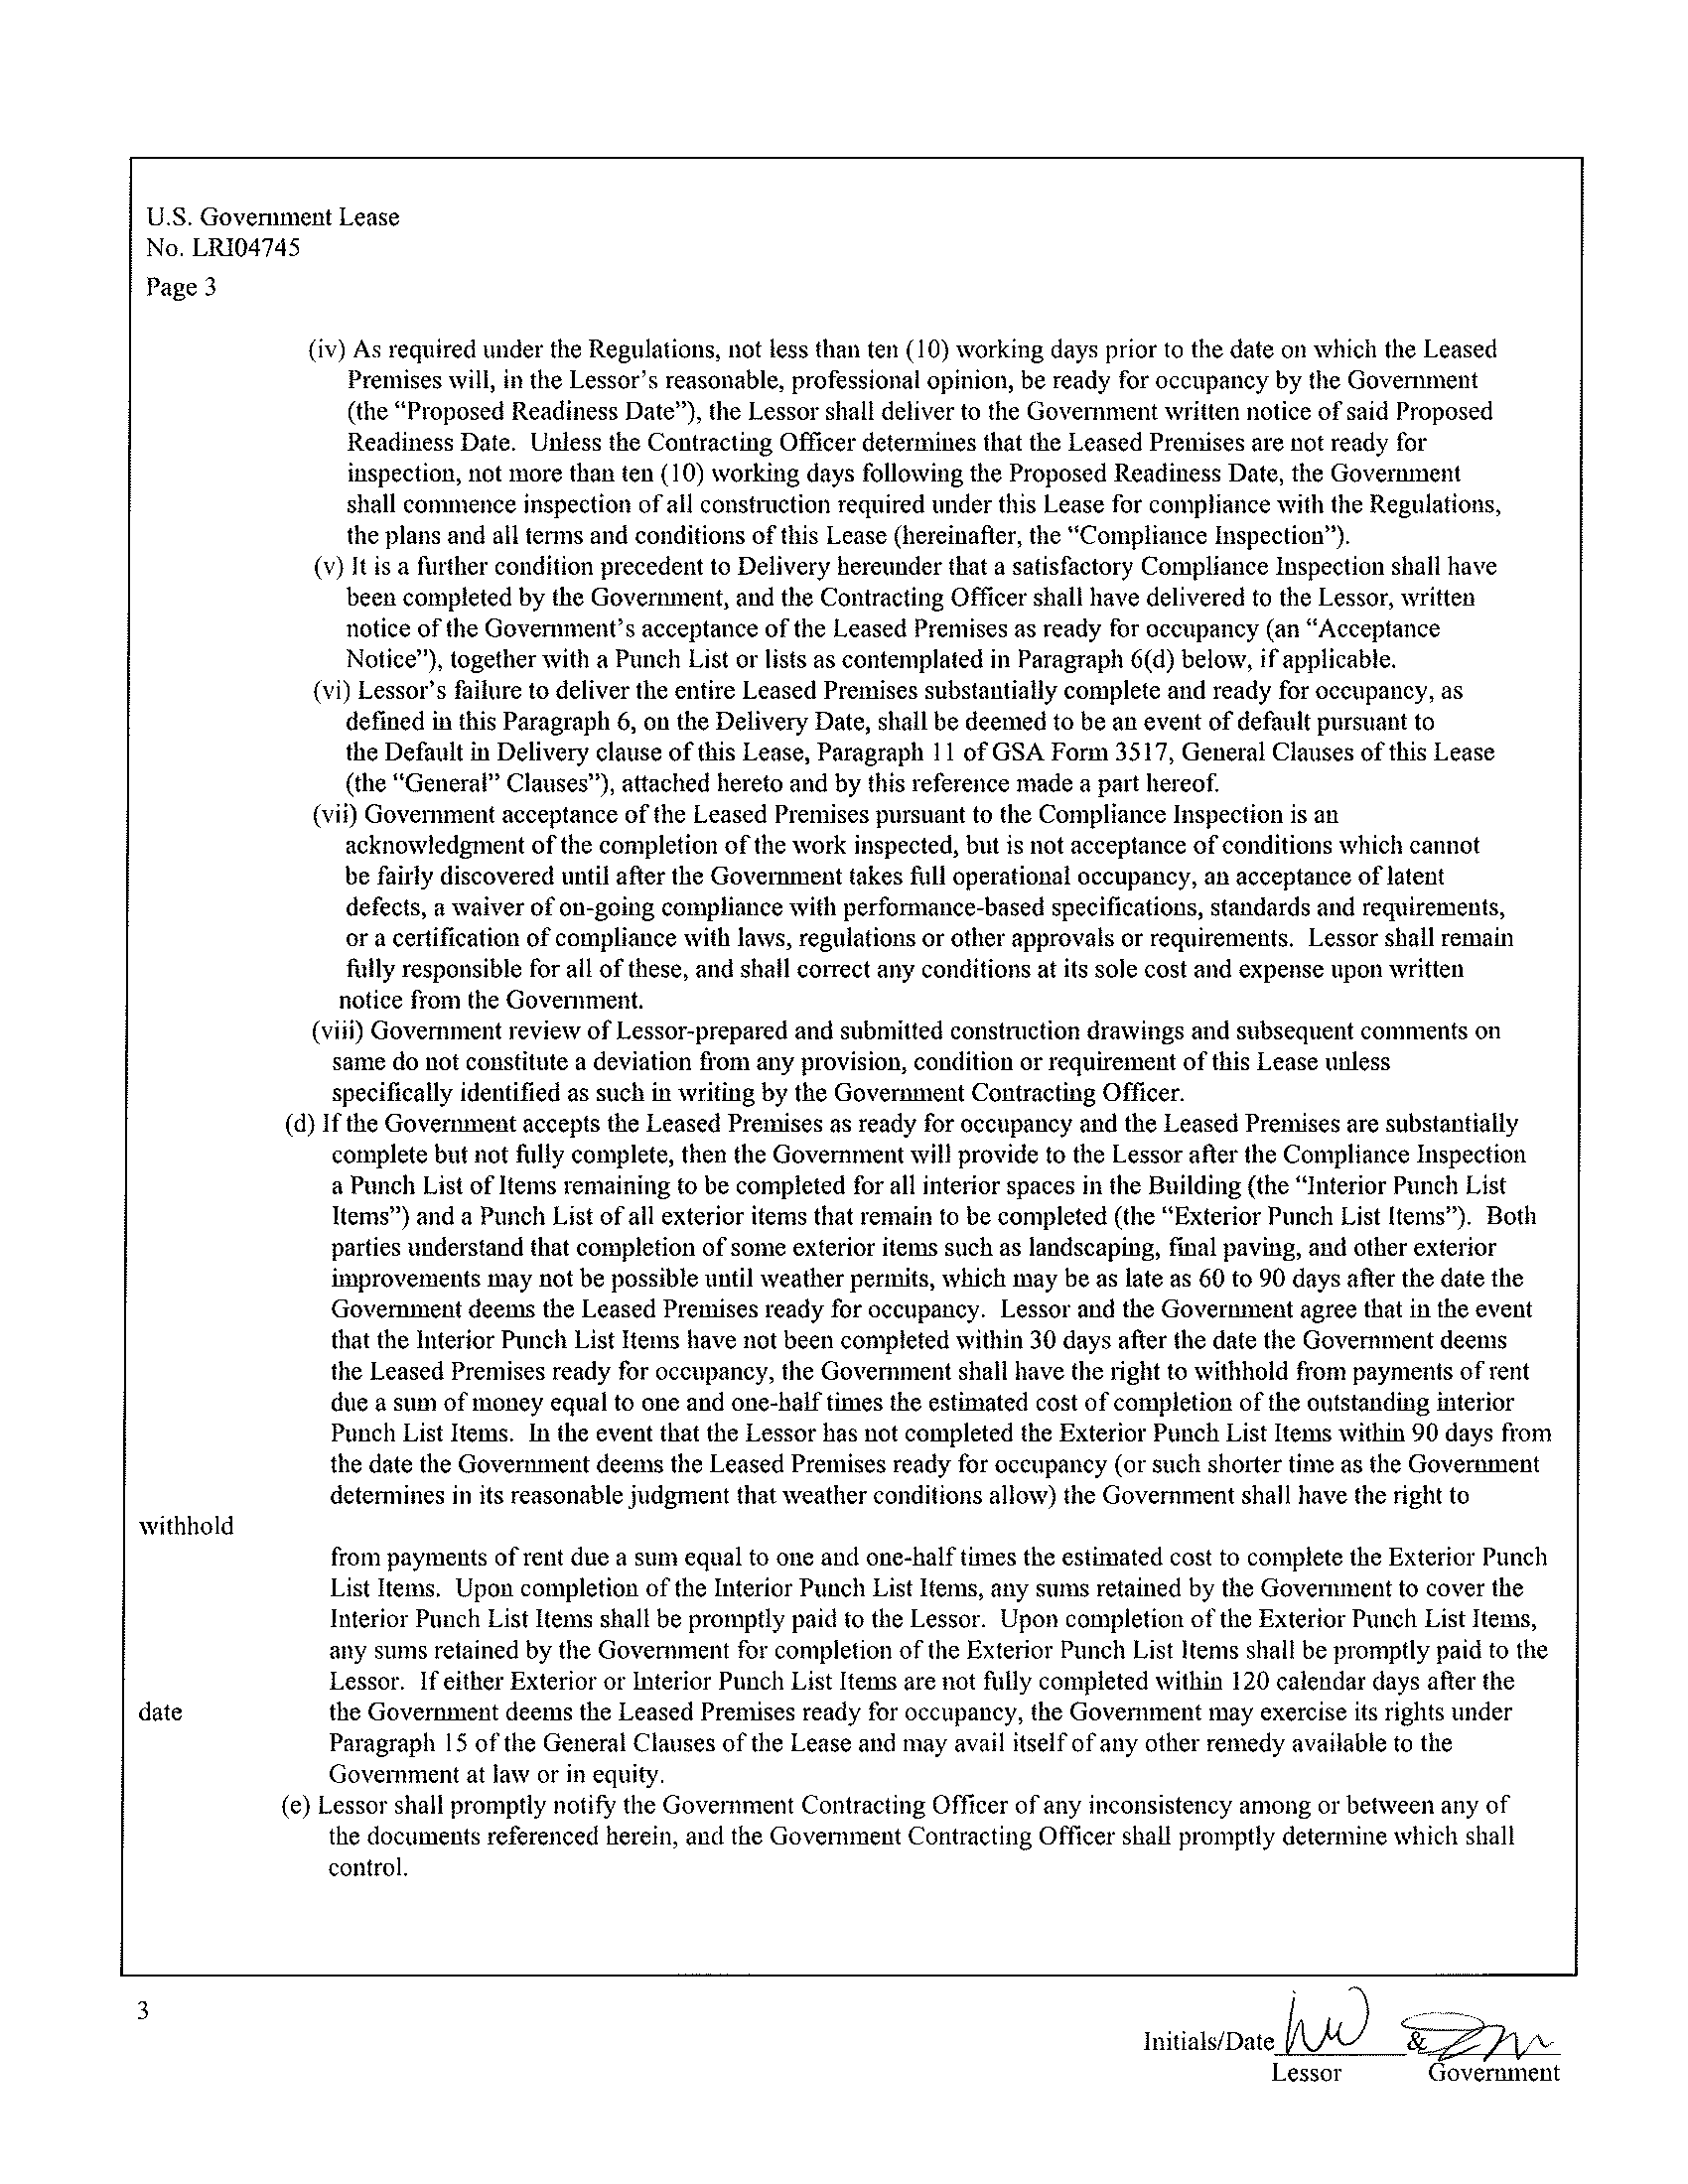handwritten: (1264, 1977, 1569, 2056)
